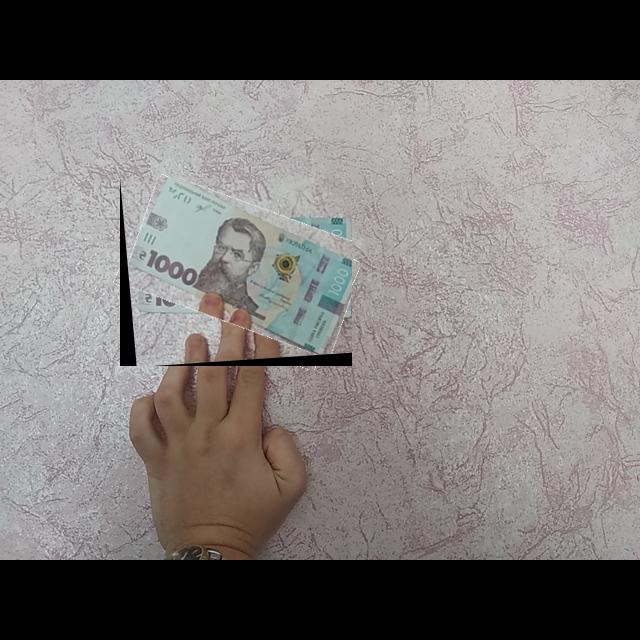1000uah: (127, 178, 353, 358)
